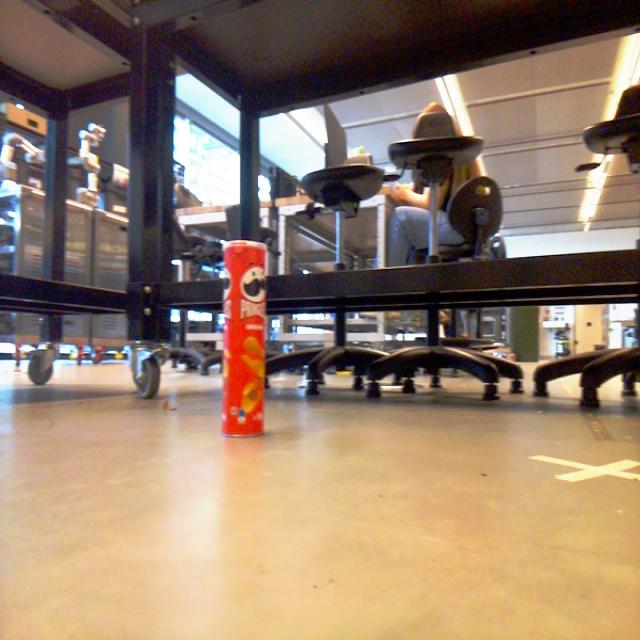redpringles: (214, 228, 275, 451)
